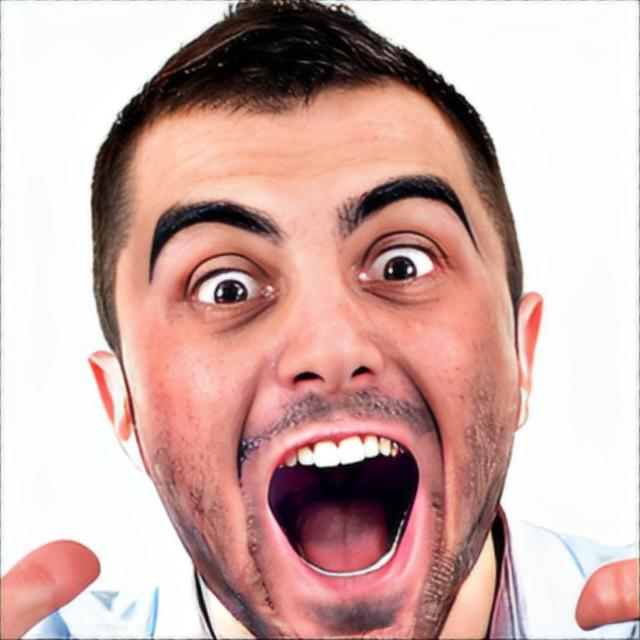surprise: (112, 72, 522, 640)
